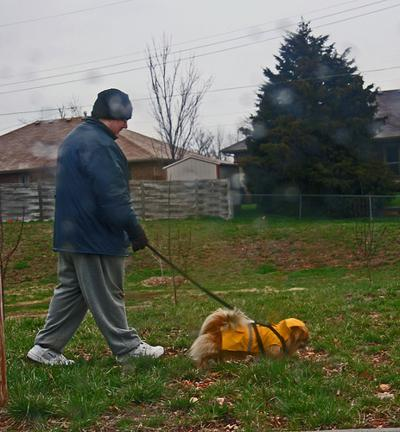person: (24, 87, 168, 371)
